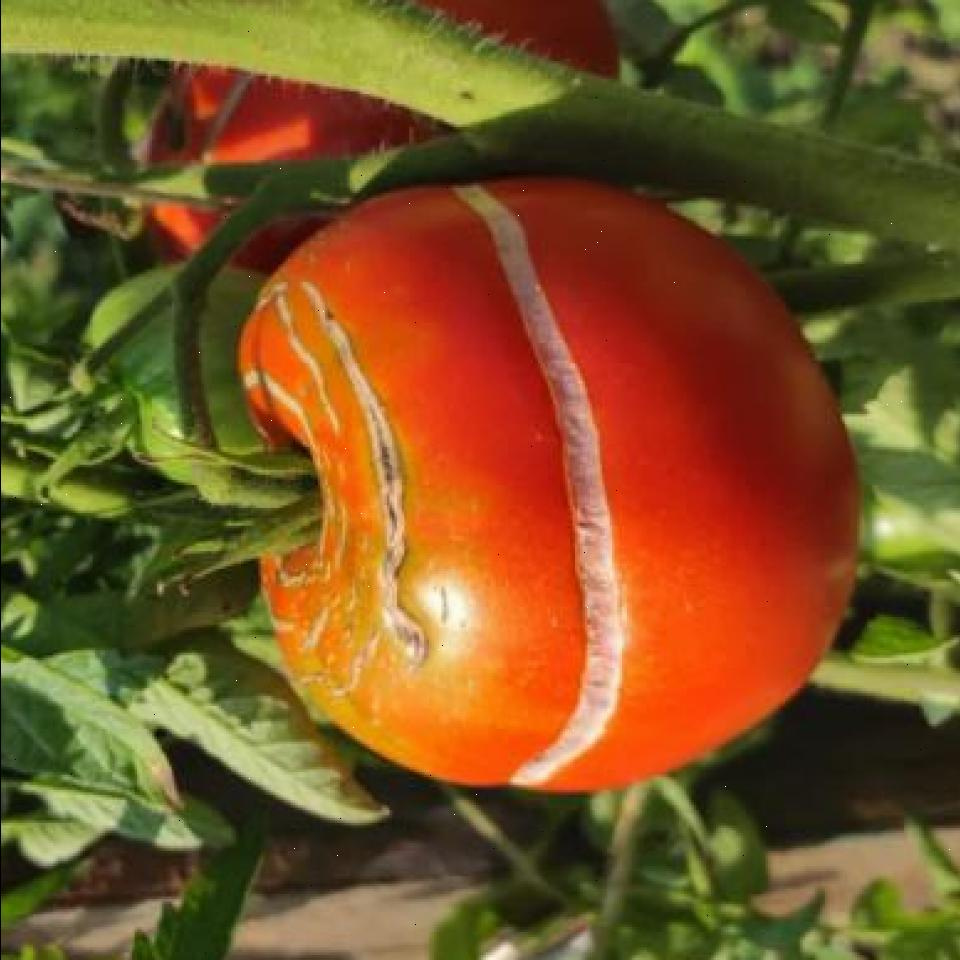Cracking: (467, 176, 640, 800), (254, 236, 414, 740)
